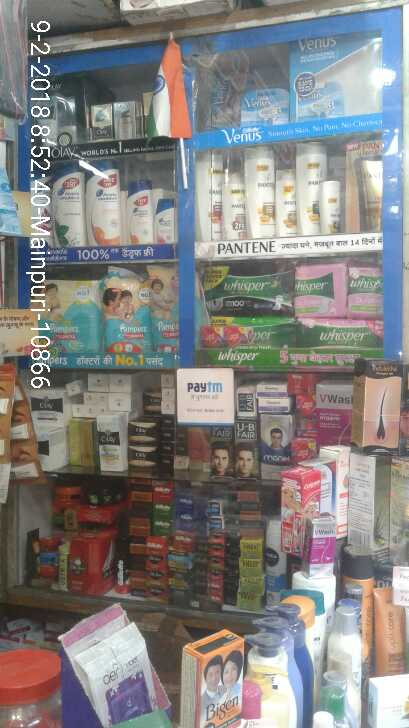venus: (290, 38, 386, 113), (239, 89, 290, 120)
